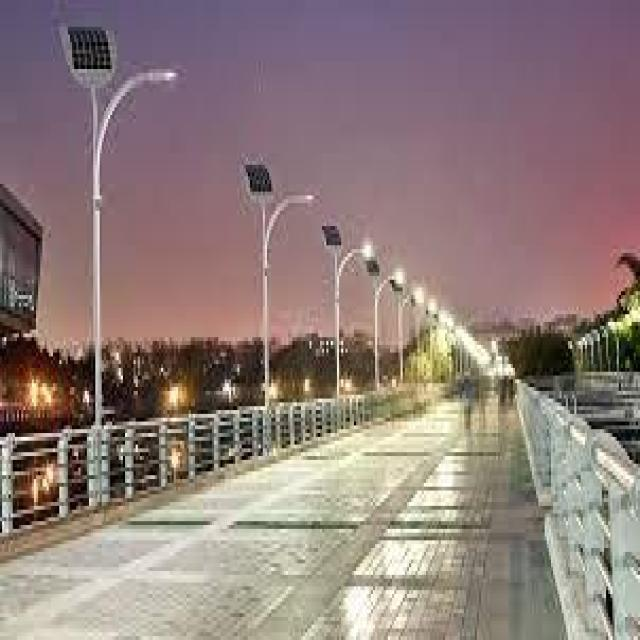pole: (84, 204, 119, 433)
